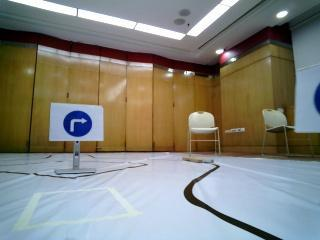right: (53, 102, 103, 137)
